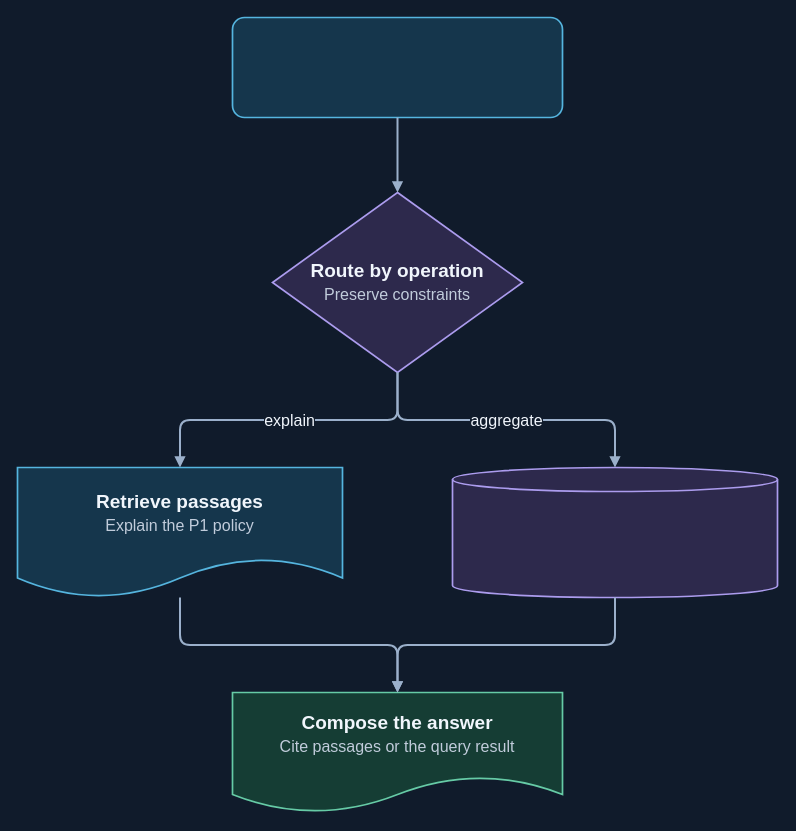
Image size: 796x831. Some labels were removed from this diagram. Each missing label, with the centre of its shape:
"Query eligible rows AVG(response_minutes) for P1" belongs at [614,532].
"Question Explain a rule, or calculate a value?" belongs at [397,67].
